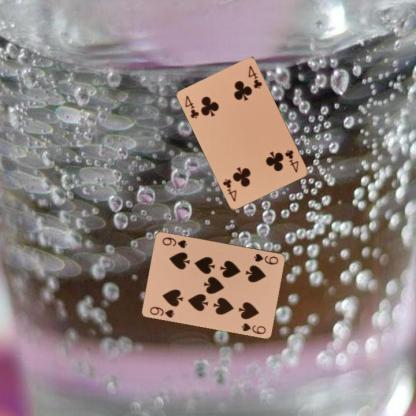4c: (282, 147, 300, 174), (182, 92, 200, 119)
9s: (251, 251, 280, 266), (147, 304, 176, 319)
